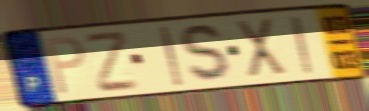I: (288, 14, 317, 76), (157, 24, 185, 88)
P: (43, 34, 87, 97)
S: (179, 22, 237, 86)
X: (233, 15, 290, 79)
Z: (83, 28, 141, 95)
